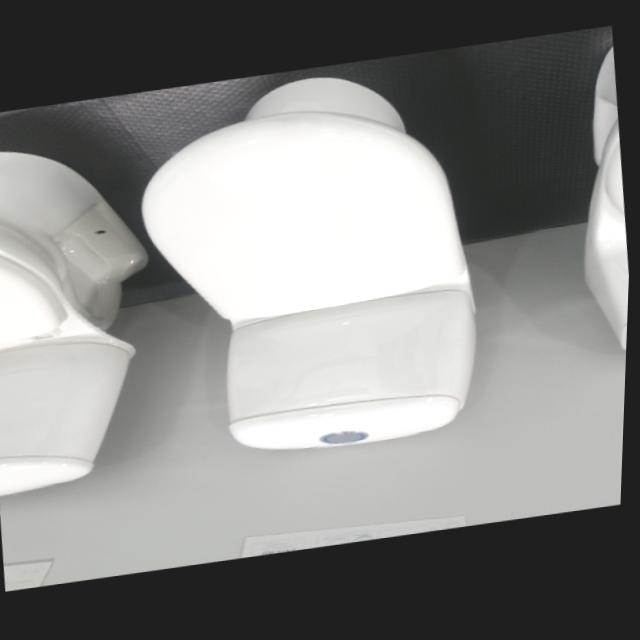toilet: (124, 59, 500, 476), (0, 131, 177, 498)
